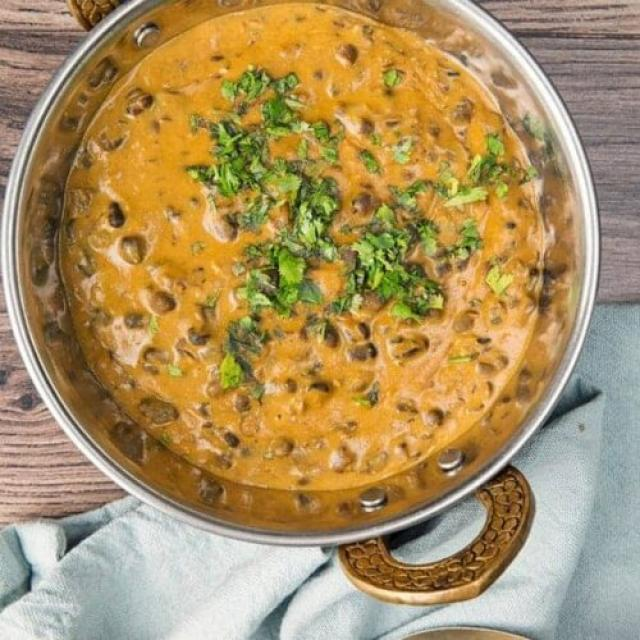dal_makhani: (54, 13, 564, 495)
